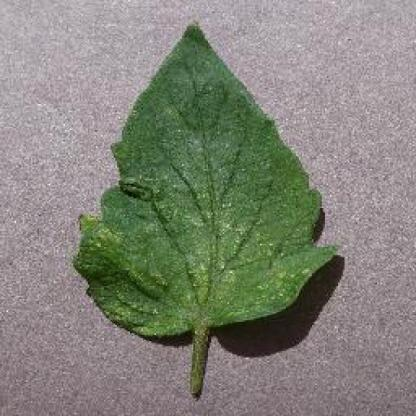Tomato_Spider_Mites: (75, 21, 340, 332)
